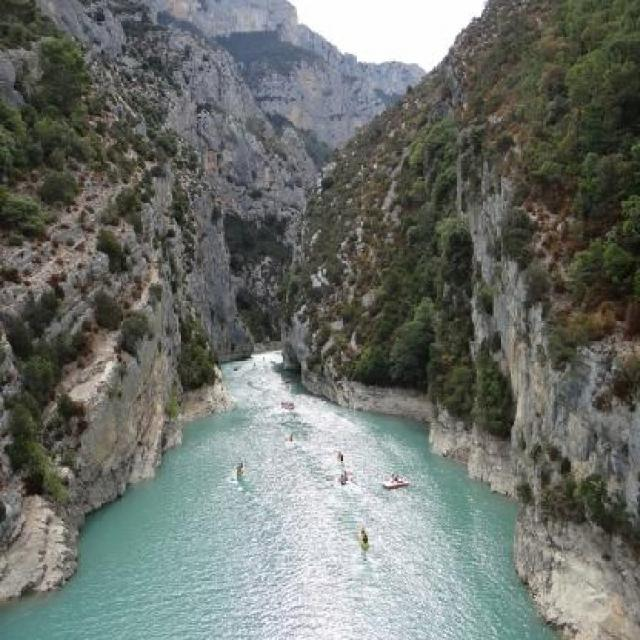ship: (383, 472, 409, 491), (358, 524, 370, 551), (336, 448, 346, 464), (234, 458, 243, 474)
